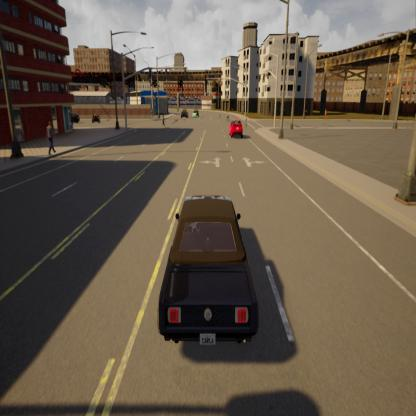Cars: (150, 176, 266, 356), (228, 116, 245, 144), (190, 106, 202, 124), (90, 111, 102, 128), (71, 108, 82, 126), (180, 105, 189, 122)
Pedestrian: (44, 119, 57, 160), (160, 113, 169, 135), (244, 113, 249, 133), (149, 106, 155, 122), (218, 107, 222, 123)
